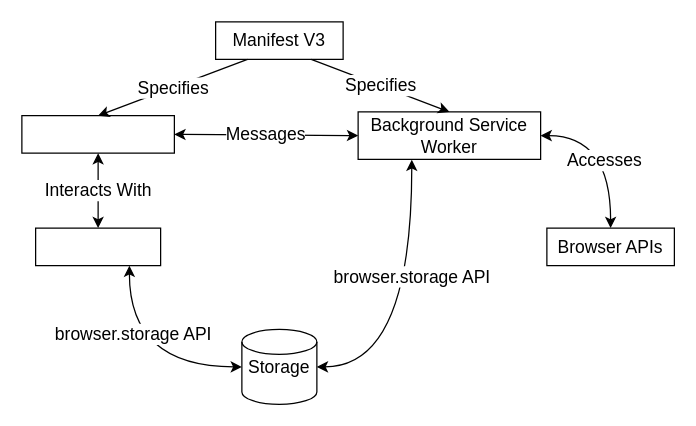
Some shapes in this 696 by 426 pixel diagram are drawn without their labels. Each missing label, with the centre of its shape:
Content Scripts: point (97, 133)
Web Page: point (97, 246)
